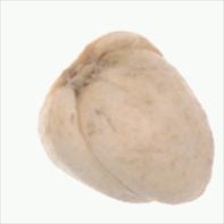L3: (121, 191, 205, 208)
L4: (38, 32, 214, 205)
